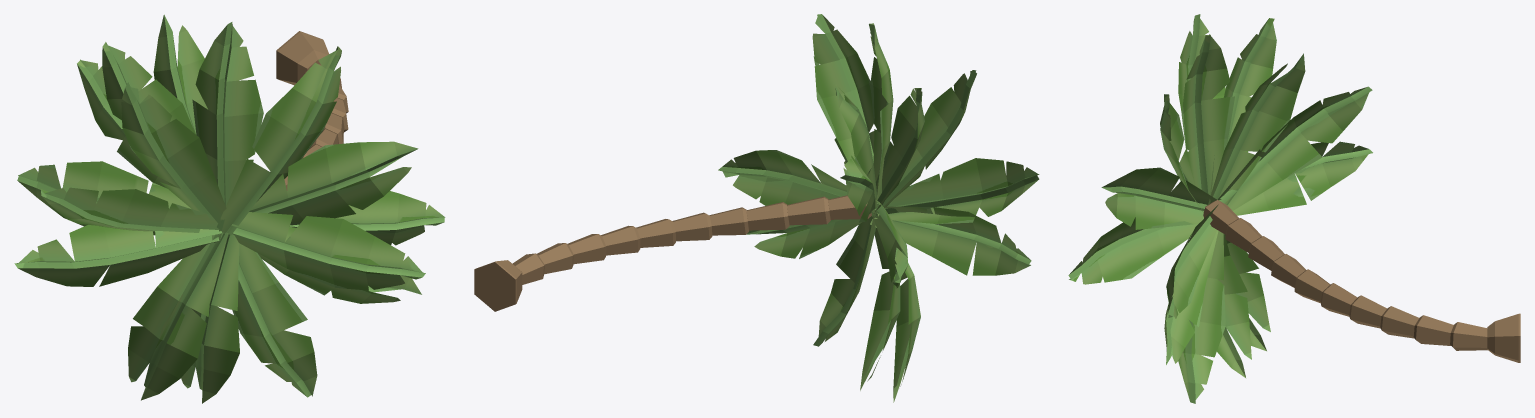
Rendered from PalmTreeLowPoly2.glb.
The picture shows the model from 3 angles, left to right: view 1: azimuth 30°, elevation 25°; view 2: azimuth 150°, elevation 25°; view 3: azimuth 270°, elevation 25°; orthographic projection. The views are drawn at different scales.
Visible parts, largest first — view 1: Plane.006, Plane.013, Plane.007, Plane.008, Plane.015, Plane.012, Plane, Plane.010, Plane.011, Plane.014, Plane.003, Plane.002 (+6 smaller); view 2: Cylinder.003, Plane.011, Plane.012, Plane.015, Plane.002, Plane.010, Plane, Plane.009, Plane.008, Plane.001, Plane.014, Plane.013 (+4 smaller); view 3: Cylinder.003, Plane.004, Plane.008, Plane.005, Plane.007, Plane.006, Plane.003, Plane, Plane.009, Plane.014, Plane.002, Plane.001 (+4 smaller).
Boxes of the visible parts, x1,y1,x2,y2 form: Plane.006: [231, 212, 425, 290]; Plane.013: [128, 233, 227, 400]; Plane.007: [249, 141, 418, 225]; Plane.008: [192, 22, 263, 232]; Plane.015: [217, 46, 341, 235]; Plane.012: [14, 225, 221, 286]; Plane: [219, 232, 317, 397]; Plane.010: [121, 82, 226, 224]; Plane.011: [41, 187, 219, 232]; Plane.014: [181, 232, 239, 403]; Plane.003: [17, 161, 190, 235]; Plane.002: [290, 191, 445, 245]; Cylinder.003: [512, 195, 871, 284]; Plane.011: [874, 158, 1039, 223]; Plane.012: [870, 206, 1031, 275]; Plane.015: [812, 14, 877, 166]; Plane.002: [718, 150, 847, 205]; Plane.010: [876, 70, 976, 214]; Plane: [813, 210, 877, 346]; Plane.009: [873, 88, 924, 213]; Plane.008: [869, 23, 893, 204]; Plane.001: [746, 219, 861, 258]; Plane.014: [860, 228, 900, 390]; Plane.013: [877, 213, 920, 402]; Cylinder.003: [1203, 199, 1487, 350]; Plane.004: [1218, 86, 1372, 210]; Plane.008: [1181, 34, 1234, 194]; Plane.005: [1208, 53, 1305, 205]; Plane.007: [1101, 167, 1216, 229]; Plane.006: [1068, 199, 1221, 284]; Plane.003: [1233, 141, 1372, 215]; Plane: [1178, 231, 1225, 403]; Plane.009: [1210, 18, 1276, 195]; Plane.014: [1217, 234, 1251, 377]; Plane.002: [1166, 204, 1218, 318]; Plane.001: [1164, 230, 1218, 364].
Size of the model in its own units: 4.94 by 4.01 by 4.74.
Materials: 2 (1 with a texture image).
